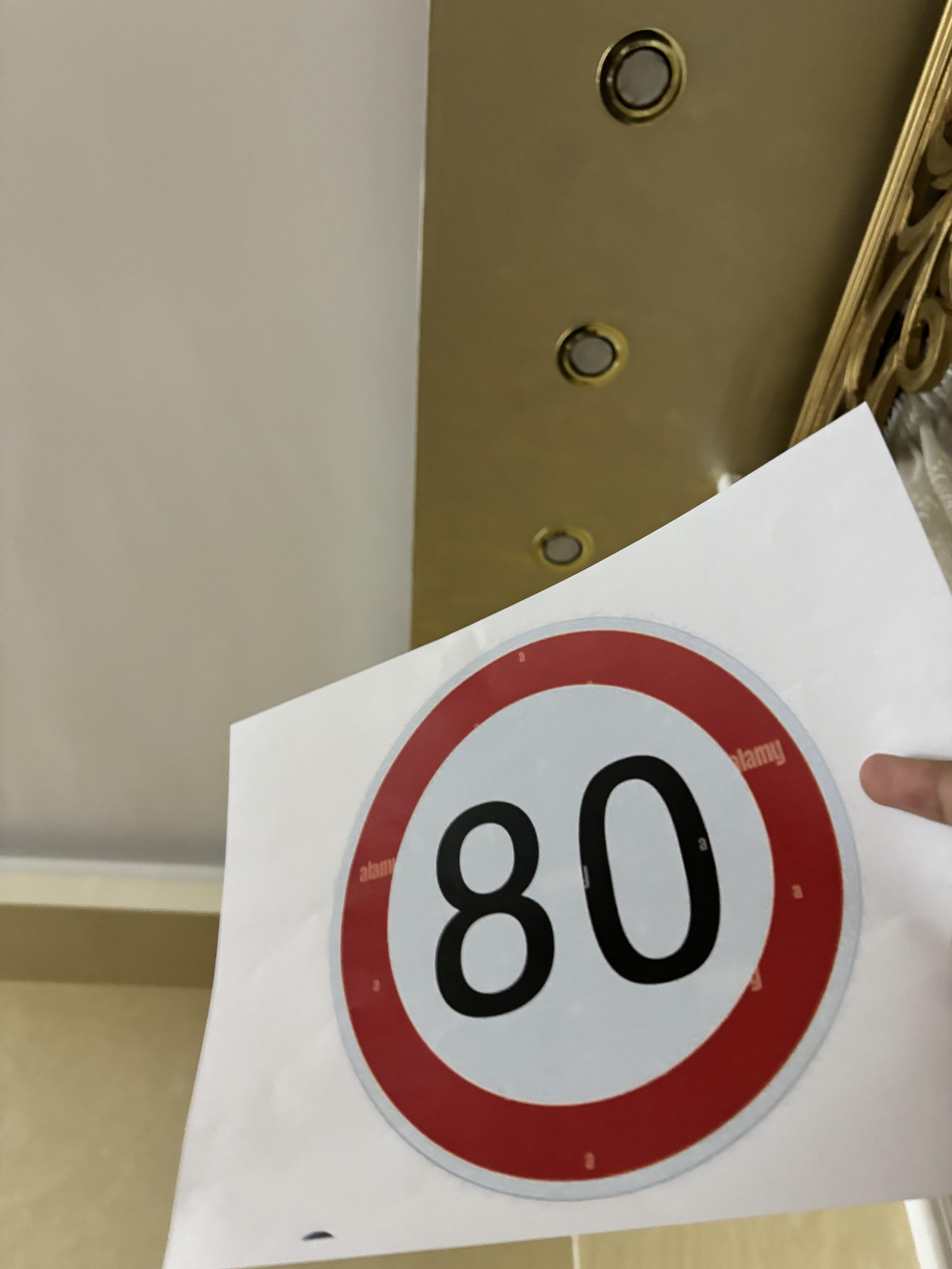80-Speed: (320, 609, 861, 1196)
